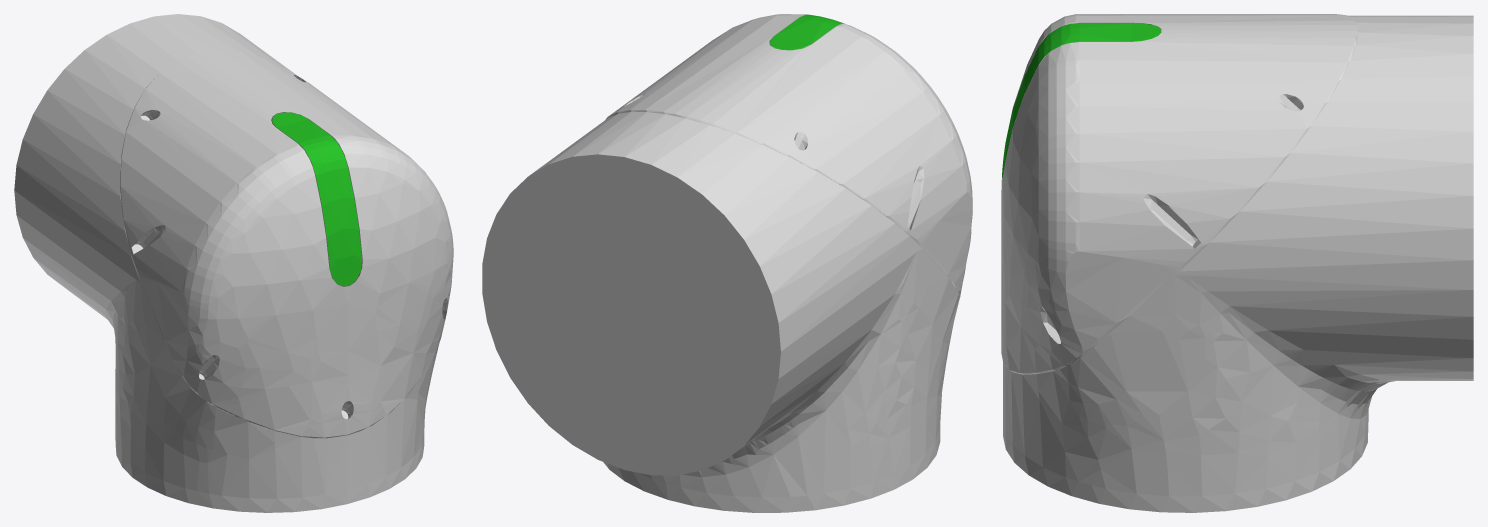
3 views of the same model, side by side, from view 1: azimuth 30°, elevation 25°; view 2: azimuth 150°, elevation 25°; view 3: azimuth 270°, elevation 25° (orthographic). The views are drawn at different scales.
Parts seen in each view (by area): view 1: node; view 2: node; view 3: node.
Part boxes in pixels (x1=…): node: x1=14, y1=14, x2=453, y2=512; node: x1=482, y1=14, x2=972, y2=512; node: x1=1001, y1=14, x2=1473, y2=512.
Bounding box in the file's own units: 240 × 293 × 310.
